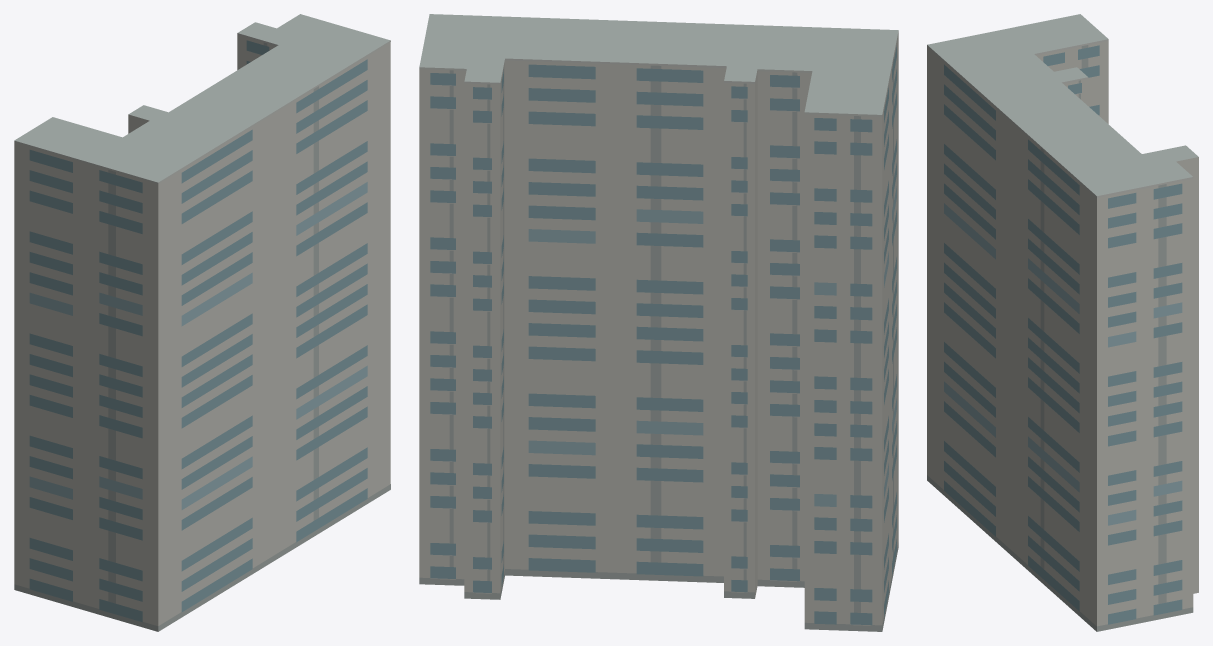
The model's file is residential-aa0a5ba0-dda3-48d3-9099-07e69d5f2392.glb.
3 views of the same model, side by side, from view 1: azimuth 30°, elevation 25°; view 2: azimuth 150°, elevation 25°; view 3: azimuth 270°, elevation 25° (orthographic). The views are drawn at different scales.
Visible parts, largest first — view 1: residential-aa0a5ba0-dda3-48d3-9099-07e69d5f2392.tmp; view 2: residential-aa0a5ba0-dda3-48d3-9099-07e69d5f2392.tmp; view 3: residential-aa0a5ba0-dda3-48d3-9099-07e69d5f2392.tmp.
Boxes of the visible parts, box(x1,y1,x2,y2) form: residential-aa0a5ba0-dda3-48d3-9099-07e69d5f2392.tmp: box(14, 14, 390, 631); residential-aa0a5ba0-dda3-48d3-9099-07e69d5f2392.tmp: box(419, 14, 898, 631); residential-aa0a5ba0-dda3-48d3-9099-07e69d5f2392.tmp: box(927, 14, 1198, 631).
Bounding box in the file's own units: 57.41 × 64 × 36.2.
